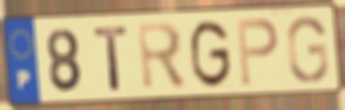8: (45, 27, 84, 95)
G: (189, 17, 234, 91), (285, 14, 330, 85)
P: (234, 17, 280, 88)
R: (135, 19, 189, 94)
T: (92, 24, 131, 93)
